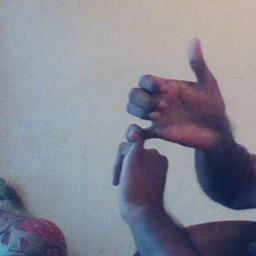S: (107, 35, 223, 197)
